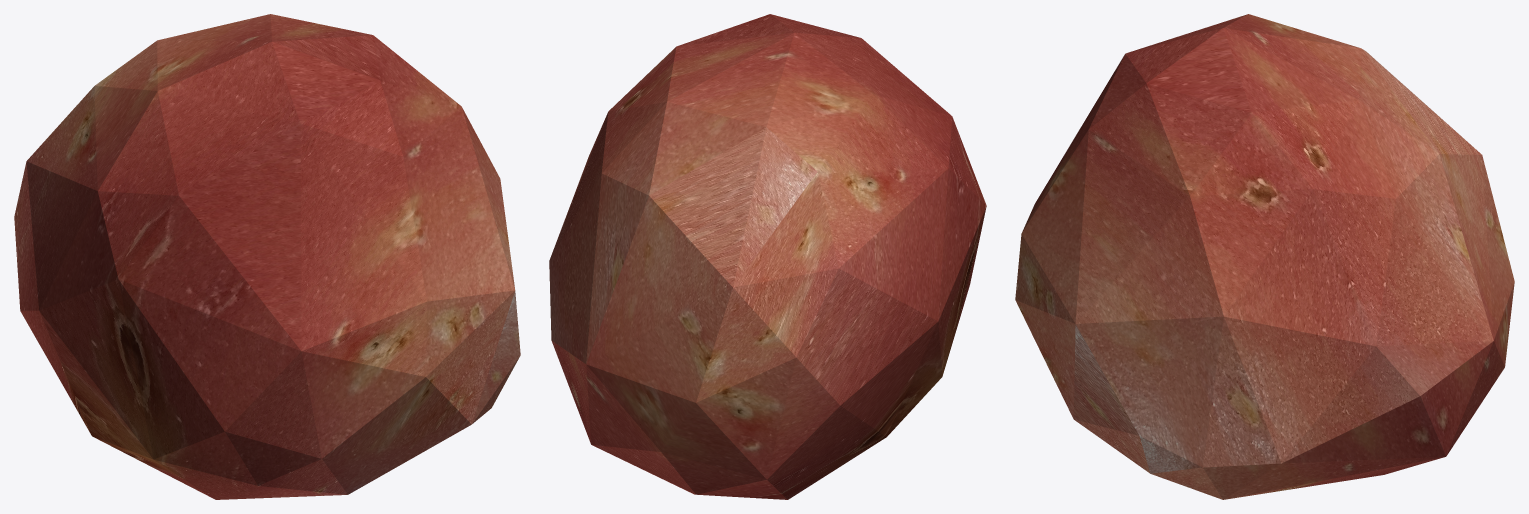
The model's file is asteroid7.obj.
3 renders of one model, left to right at view 1: azimuth 30°, elevation 25°; view 2: azimuth 150°, elevation 25°; view 3: azimuth 270°, elevation 25°, orthographic. The views are drawn at different scales.
Visible parts, largest first — view 1: Asteroid; view 2: Asteroid; view 3: Asteroid.
Boxes of the visible parts, box(x1,y1,x2,y2) form: Asteroid: box(14, 14, 520, 499); Asteroid: box(549, 14, 986, 499); Asteroid: box(1015, 14, 1514, 499).
Bounding box in the file's own units: 4.4 × 4.57 × 4.73.
Materials: 1 (1 with a texture image).
